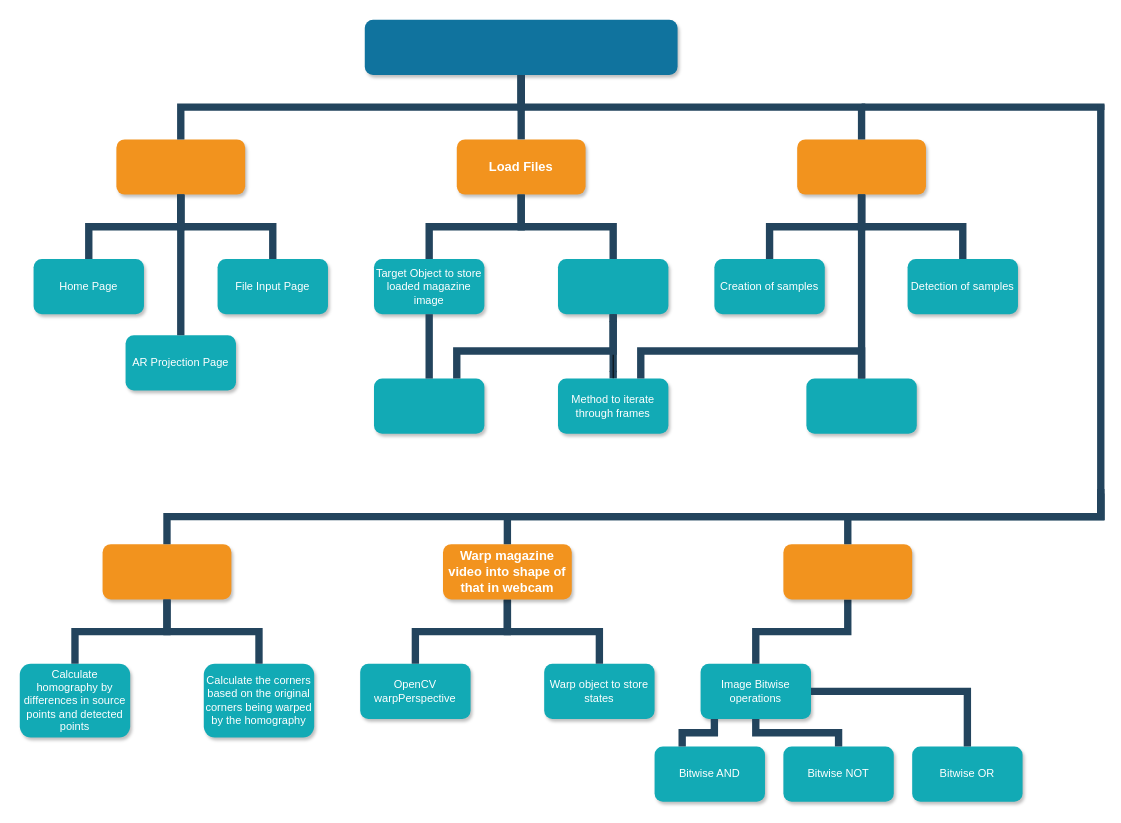
Image size: 1121x823. Some labels were removed from this diagram. Here are the shapes that lost their labels. From the top down, the centre of each, then its label:
the point at 522,48: AR Magazine Covers
the point at 181,168: User GUI
the point at 862,168: Detect Covers in the webcam
the point at 613,287: Source Object to store loaded source video
the point at 429,407: Method to resize
the point at 862,407: Webcam Object to store webcam data
the point at 167,572: Calculate Border of magazine in webcam
the point at 848,572: Project magazine video onto magazine cover
